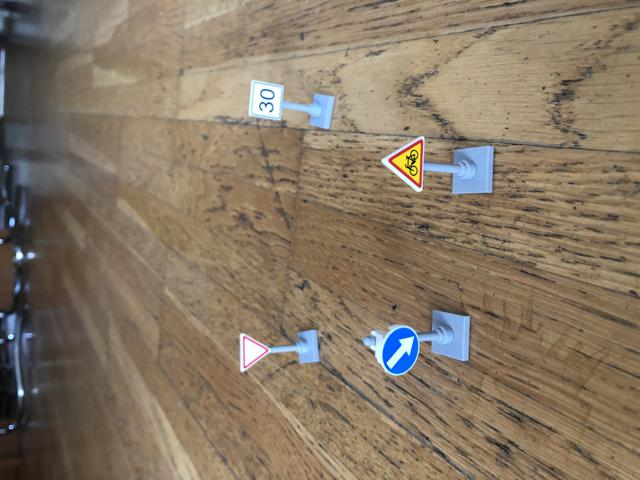radfahrer: (381, 134, 427, 193), (380, 323, 420, 377)
tempolimit 30: (249, 80, 284, 121)
vorfahrt gewähren: (238, 332, 272, 373)
